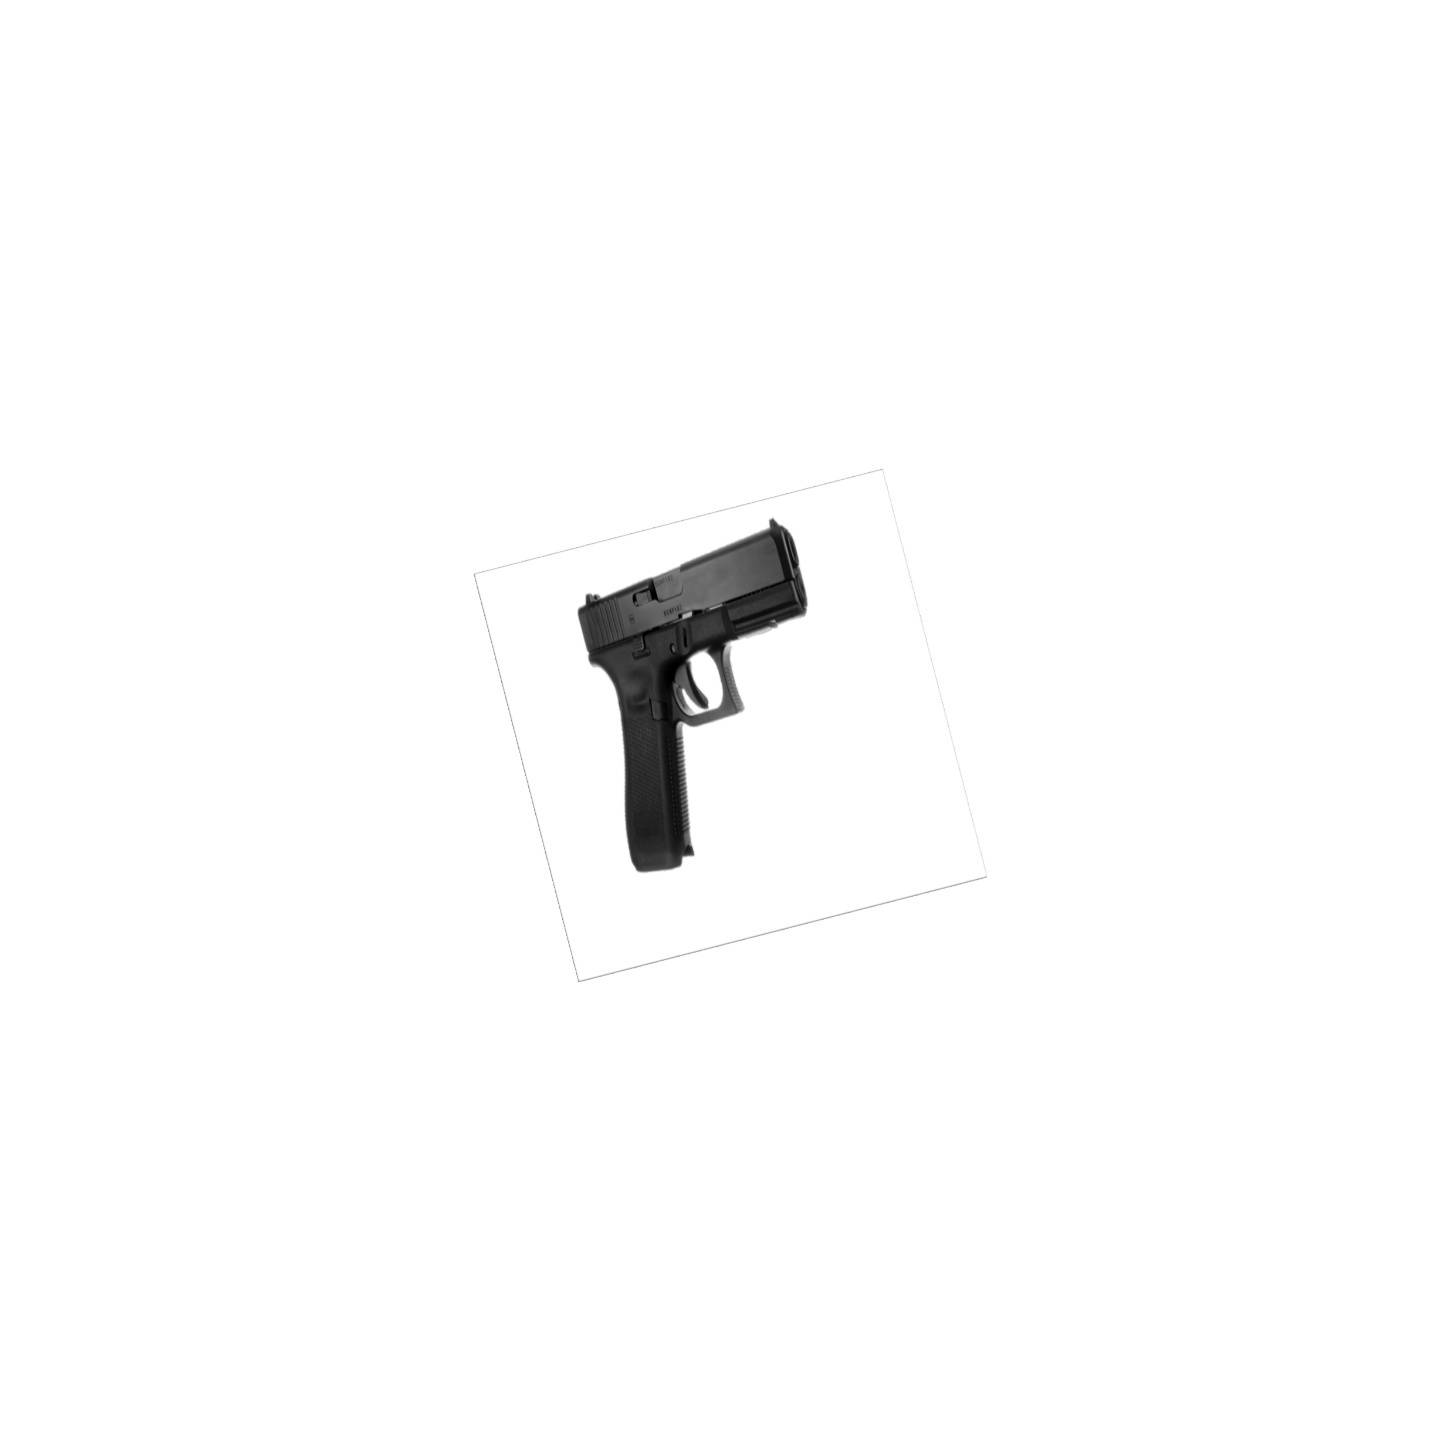gun: (575, 520, 810, 874)
